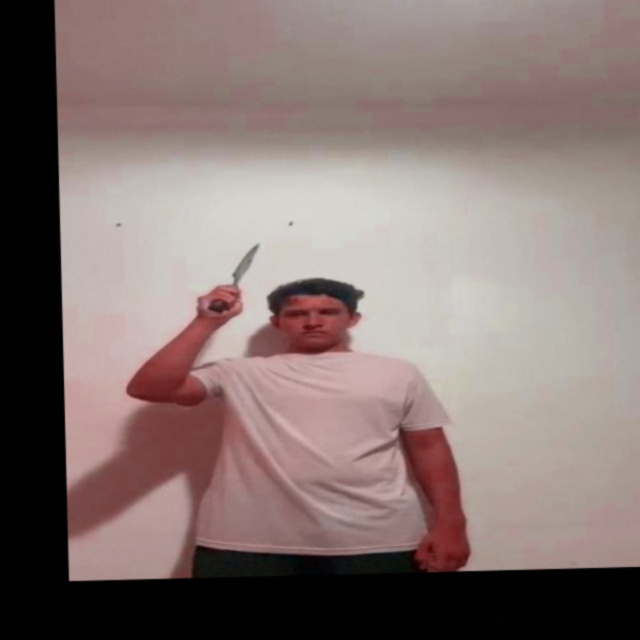Sharp-Object: (232, 244, 260, 279)
